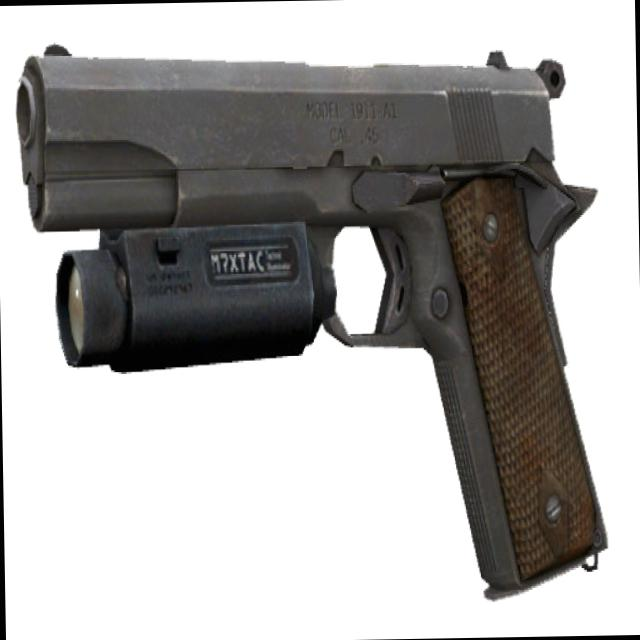handgun: (16, 19, 608, 604)
